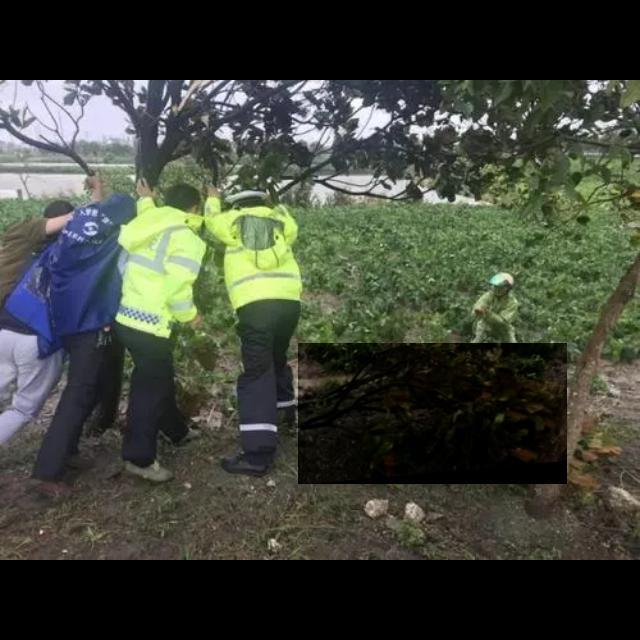fallen_tree: (298, 343, 568, 485)
